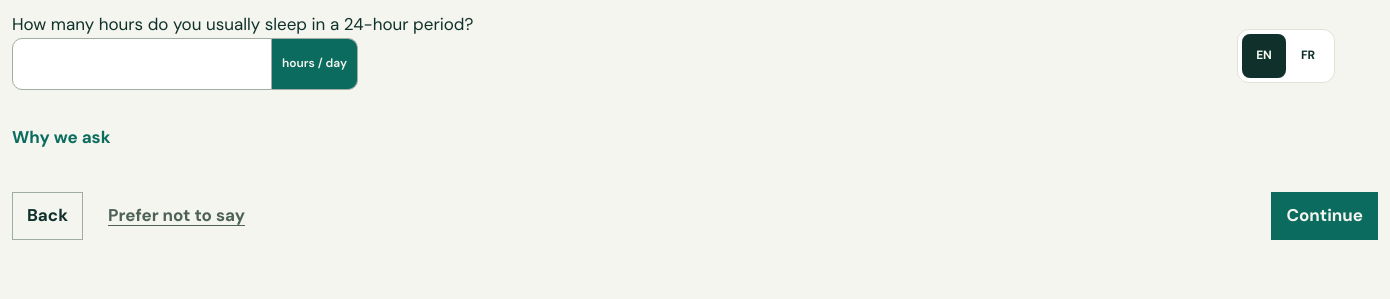
it: validates Enter, translates the error and resumes after correction
In the number field: point(142, 64) [12,38,272,90], type "100"
Then press Enter
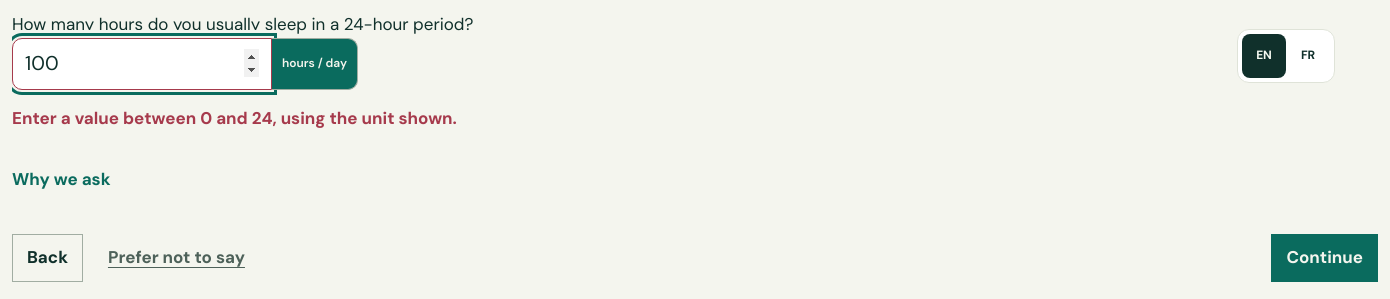
Result: the message reads "Enter a value between 0 and 24, using the unit shown." at [12,106,457,128]
Click the button with aria-label "Français": point(1308, 56) [1286,34,1330,78]
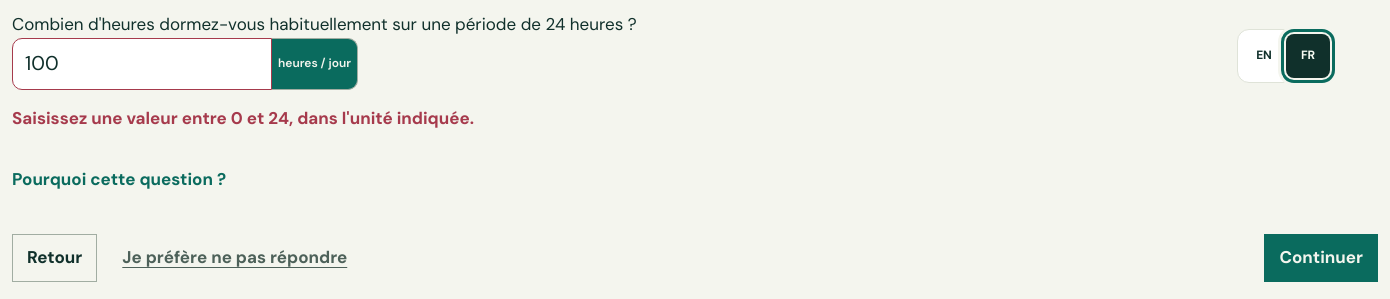
Result: the message shows "entre 0 et 24" at [12,106,474,128]
Replace the text in the number field with "7.5": point(142, 64) [12,38,272,90]
Then press Enter
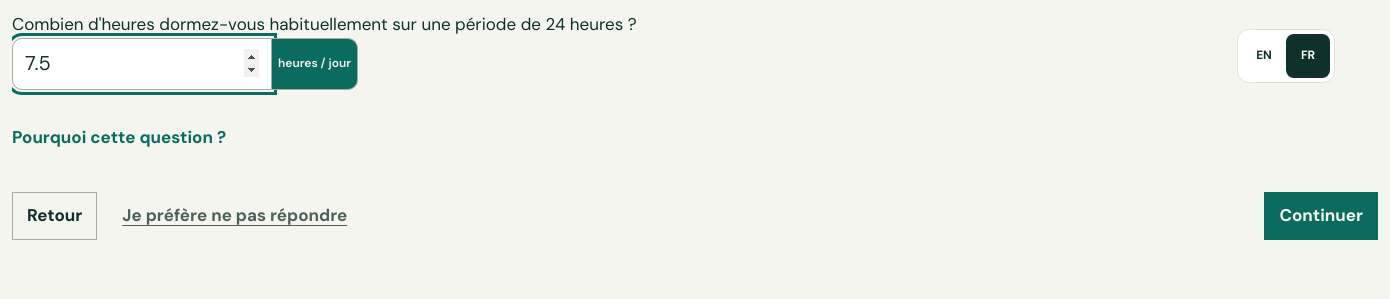
Result: the message is gone
